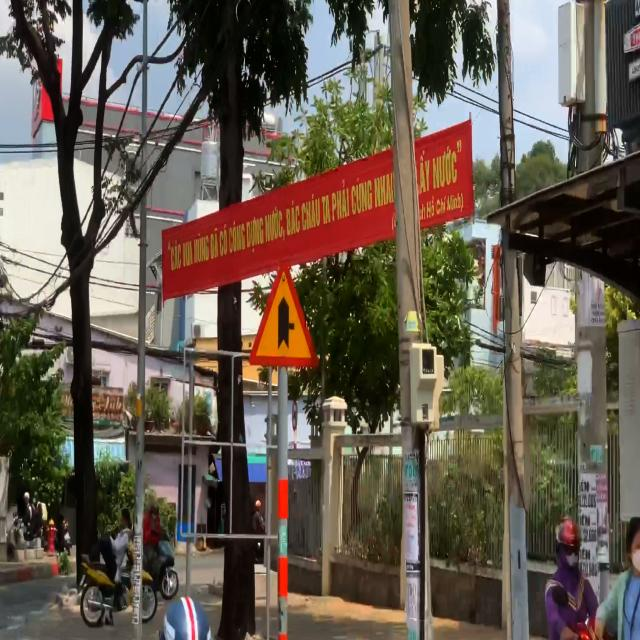Giao voi duong khong uu tien: (248, 260, 320, 366)
